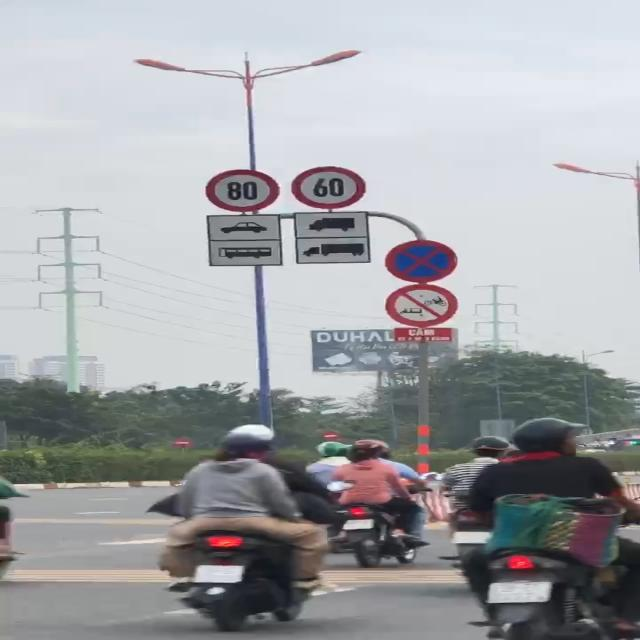Bien bao cam dung xe va do xe: (382, 239, 460, 283)
Bien bao toc do toi da cho phep: (199, 167, 283, 212), (291, 164, 367, 213)
